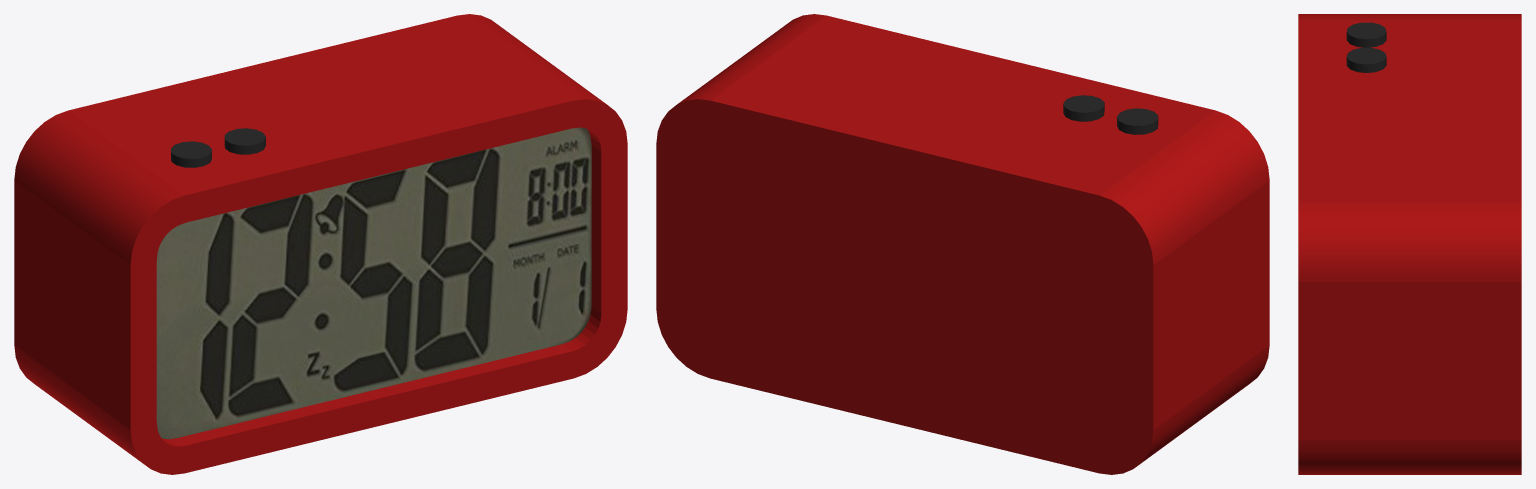
File: Clock.FBX
3 views of the same model, side by side, from view 1: azimuth 30°, elevation 25°; view 2: azimuth 150°, elevation 25°; view 3: azimuth 270°, elevation 25° (orthographic). The views are drawn at different scales.
Parts seen in each view (by area): view 1: Clock; view 2: Clock; view 3: Clock.
Part boxes in pixels (x1,y1,x2,y2): Clock: (14,14,627,474); Clock: (656,14,1269,474); Clock: (1298,14,1521,474).
Bounding box in the file's own units: 15.12 × 8.34 × 6.12.
1 material, 1 textured.
